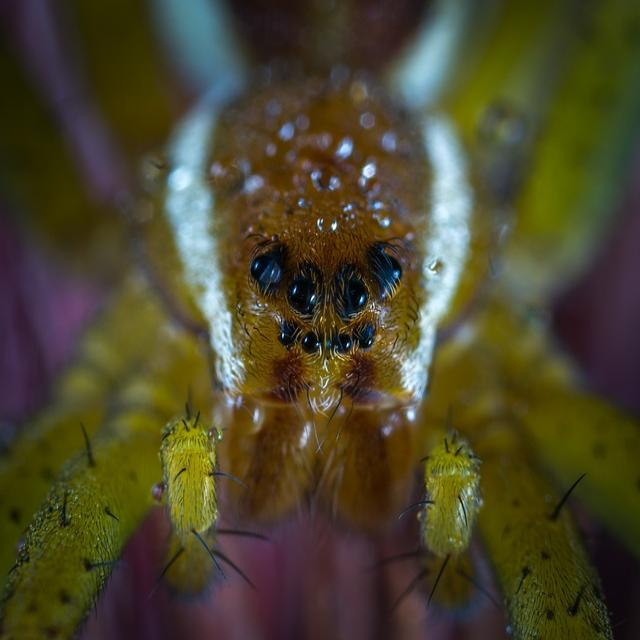spyder: (0, 4, 640, 638)
